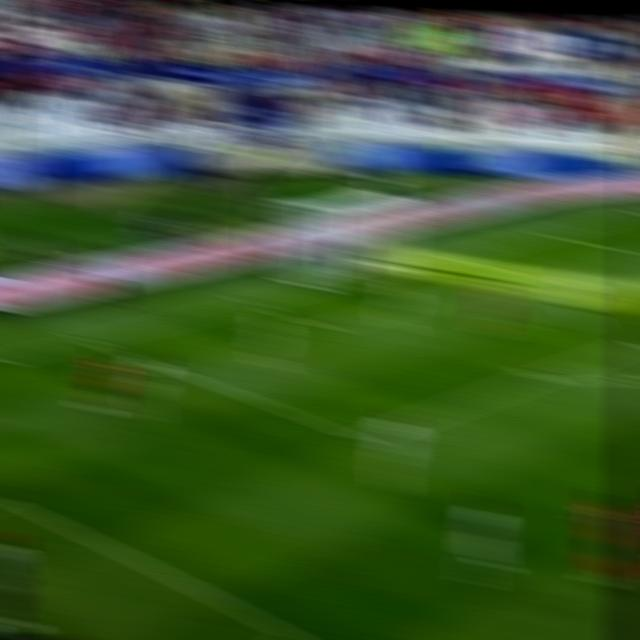bigarea_bottom_inner: (342, 421, 385, 455)
bigarea_bottom_outter: (70, 325, 108, 352)
bigarea_top_outter: (536, 224, 568, 243)
bottom_arc_area_intersection: (521, 361, 562, 389)
smallarea_bottom_inner: (310, 313, 346, 338)
smallarea_bottom_outter: (235, 291, 271, 314)
smallarea_top_inner: (506, 265, 542, 285)
smallarea_top_outter: (436, 246, 471, 266)
